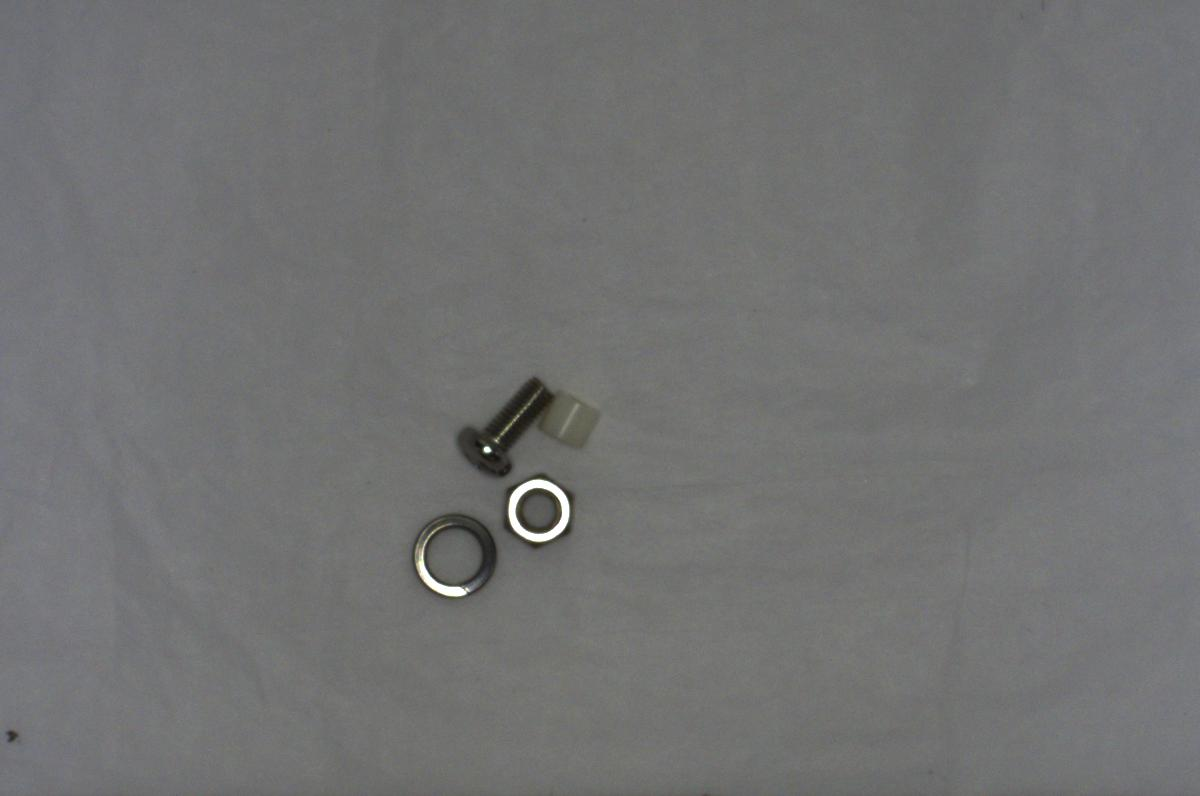Hexagon nut: (497, 472, 582, 556)
Plastic cushion pillar: (539, 382, 605, 450)
Round head screw: (454, 372, 554, 474)
Spring washer: (401, 506, 507, 606)
